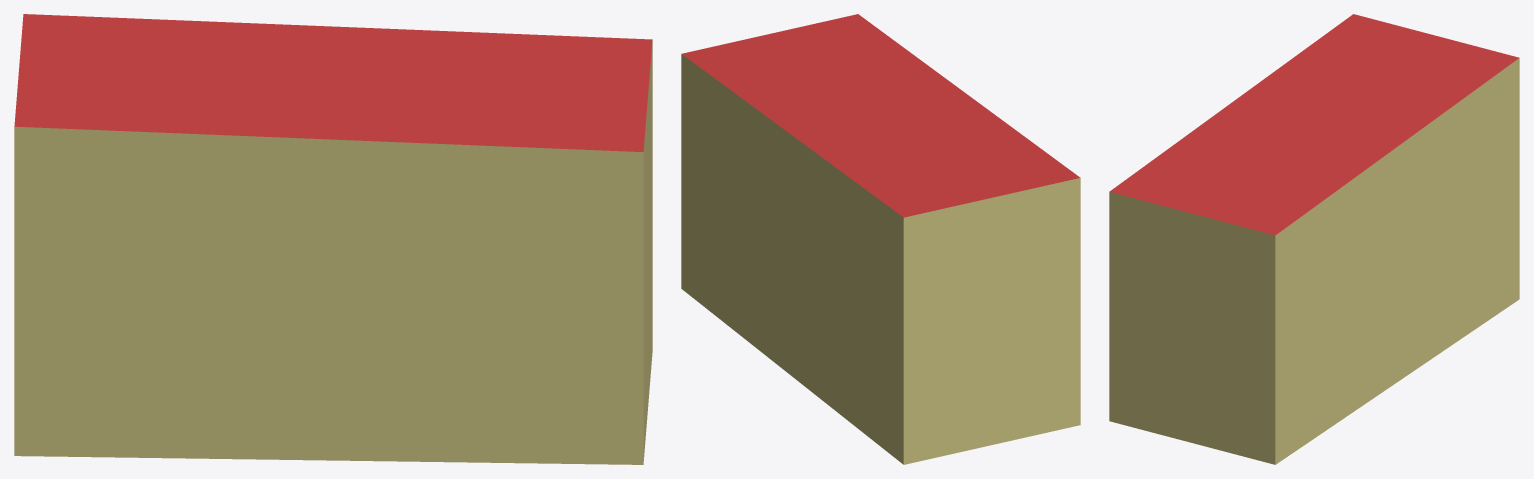
3 views of the same model, side by side, from view 1: azimuth 30°, elevation 25°; view 2: azimuth 150°, elevation 25°; view 3: azimuth 270°, elevation 25° (orthographic). The views are drawn at different scales.
Visible parts, largest first — view 1: group_4, group_3; view 2: group_4, group_3; view 3: group_4, group_3.
Boxes of the visible parts, x1=… form: group_4: x1=14, y1=40, x2=652, y2=464; group_3: x1=14, y1=14, x2=652, y2=152; group_4: x1=681, y1=54, x2=1080, y2=464; group_3: x1=681, y1=14, x2=1080, y2=217; group_4: x1=1109, y1=58, x2=1519, y2=464; group_3: x1=1109, y1=14, x2=1519, y2=235.
Size of the model in its own units: 17.1 by 14.16 by 9.2.
